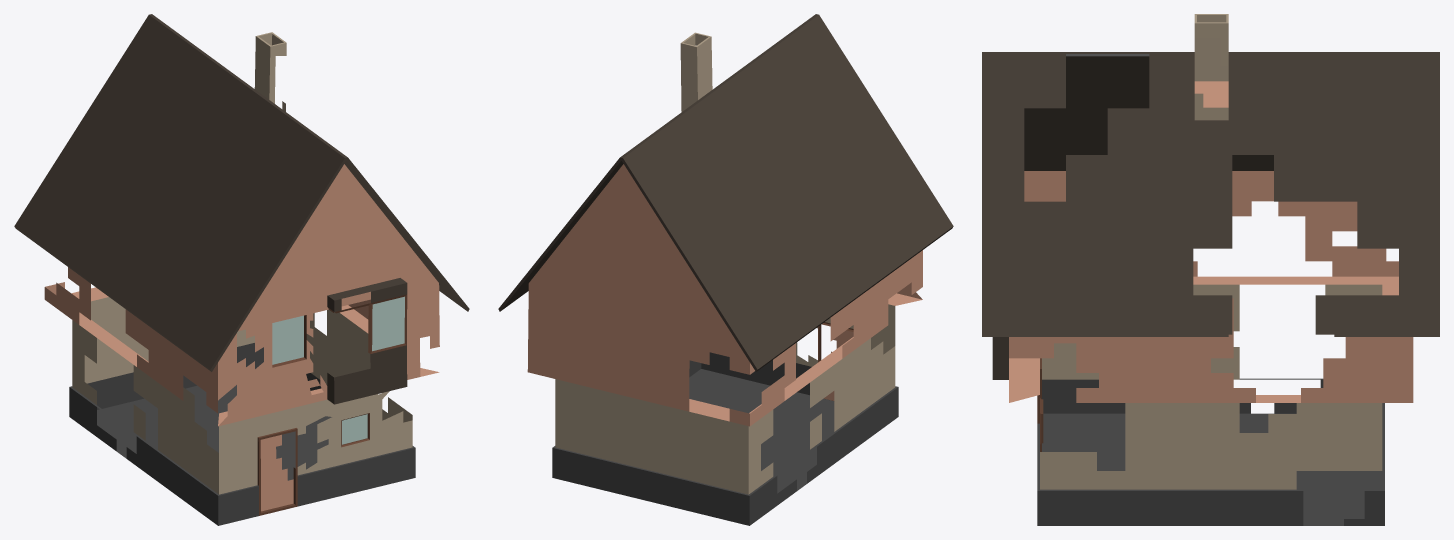
The model's file is yamato civil house.fbx.
The picture shows the model from 3 angles, left to right: view 1: azimuth 30°, elevation 25°; view 2: azimuth 150°, elevation 25°; view 3: azimuth 270°, elevation 25°; orthographic projection. The views are drawn at different scales.
Parts seen in each view (by area): view 1: Cube; view 2: Cube; view 3: Cube.
Boxes of the visible parts, x1,y1,x2,y2 form: Cube: (14,14,469,525); Cube: (498,14,953,525); Cube: (982,14,1439,525).
Bounding box in the file's own units: 263 × 388 × 344.
